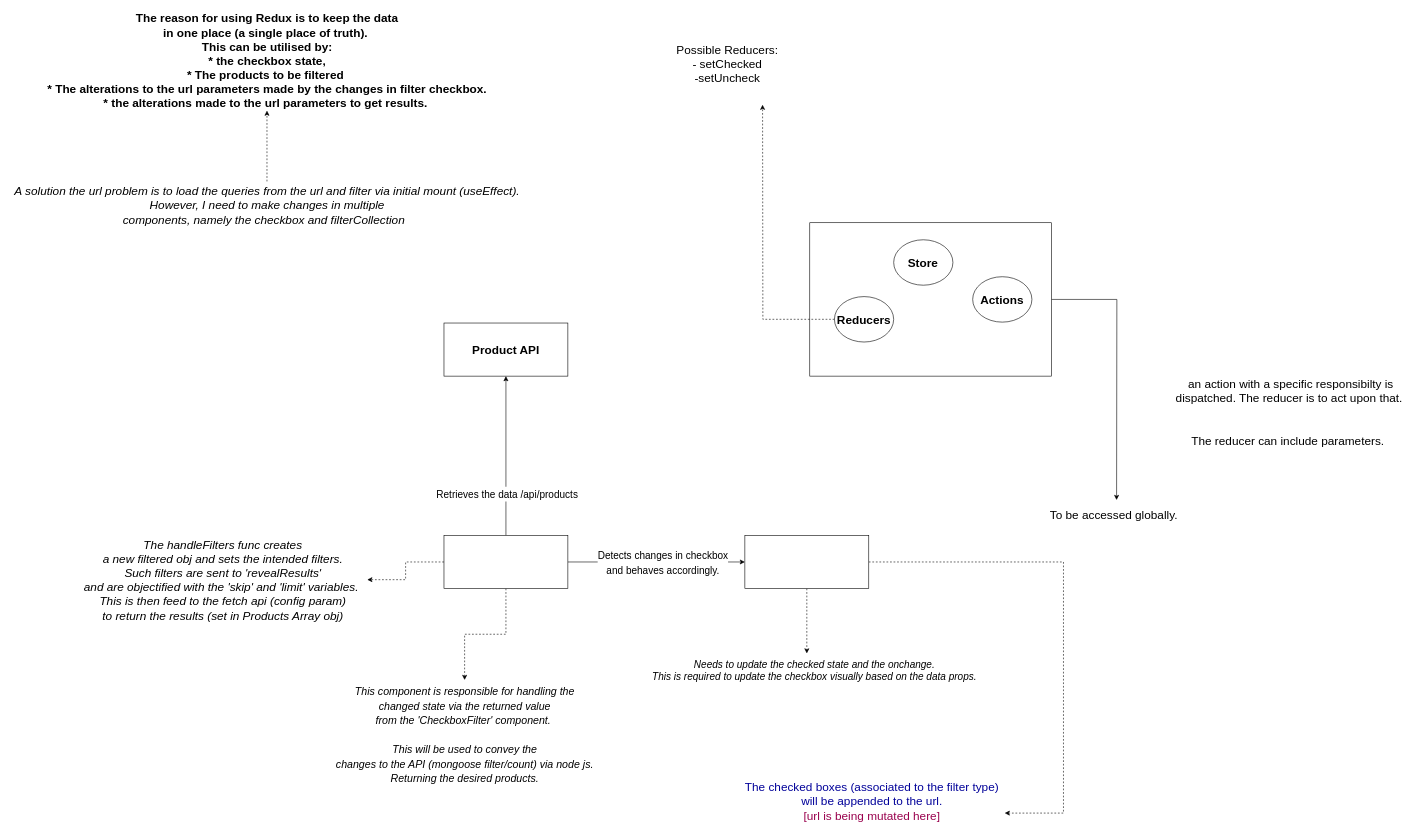
Some shapes in this 1421 by 834 pixel diagram are drawn without their labels. The shapes that lost their labels are listed below. From the top down, each one's centre as x and y in pixels, then its label:
the point at 505,562: FilterCollection
the point at 806,562: CheckboxFilter
